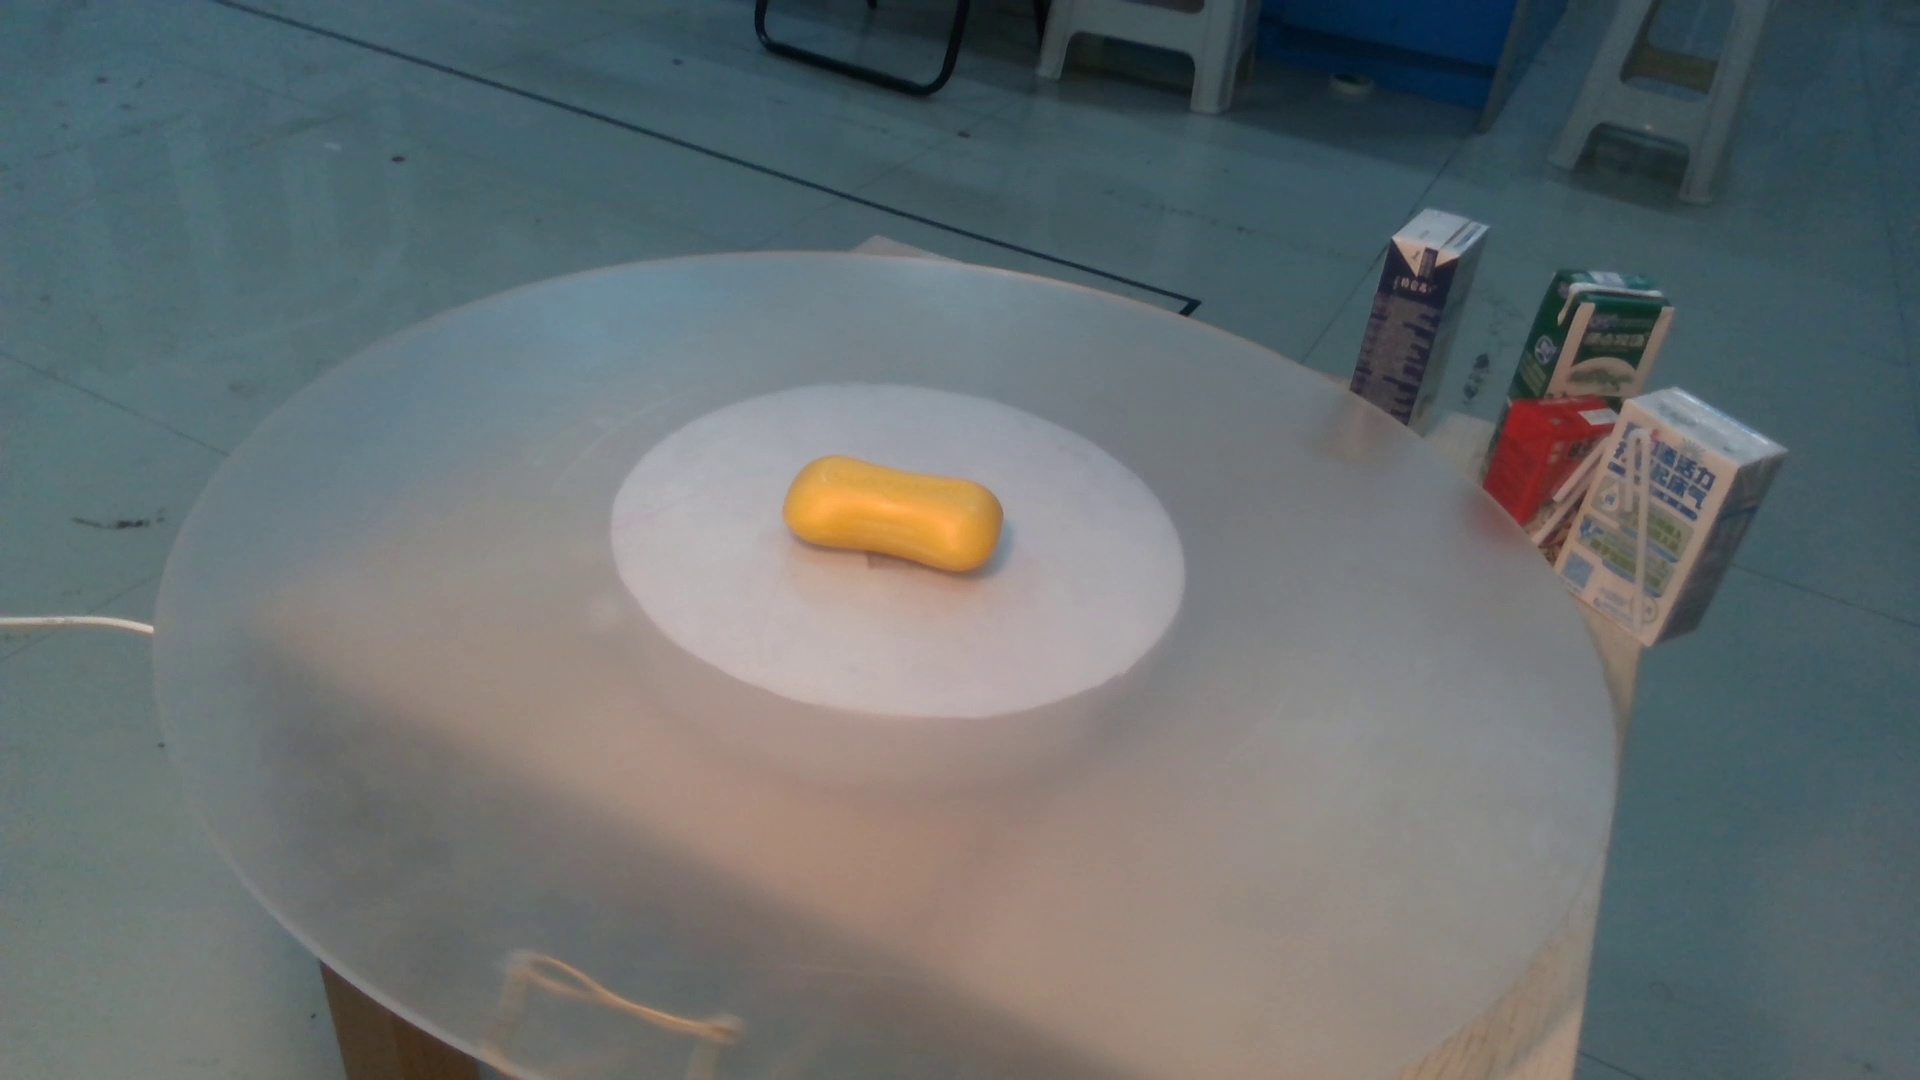CA003_1: (770, 440, 1062, 613)
